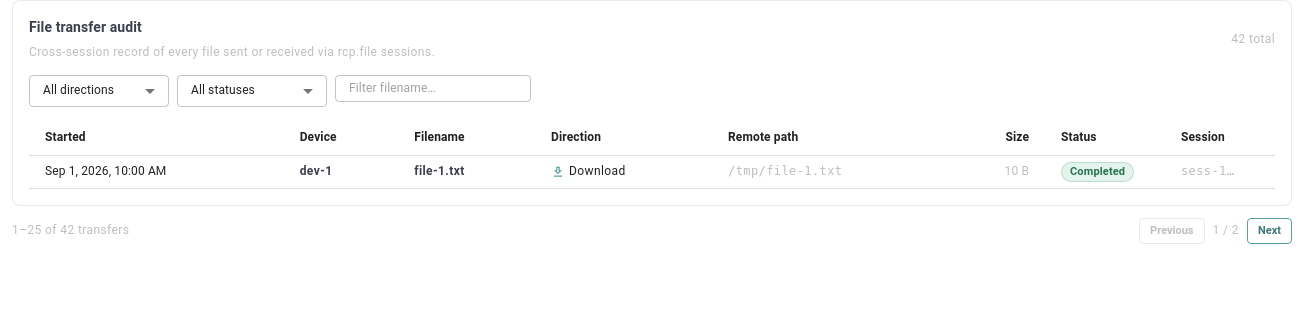
Test: ⚠️ los filtros de la auditoría viajan al servidor › el contador dice cuántas coinciden en TODO el histórico
Expected: the text "42 total" is shown, left=1231, top=30, right=1275, bottom=50
Click the dropdown "All statuses". click: (223, 90)
box: left=191, top=83, right=255, bottom=97
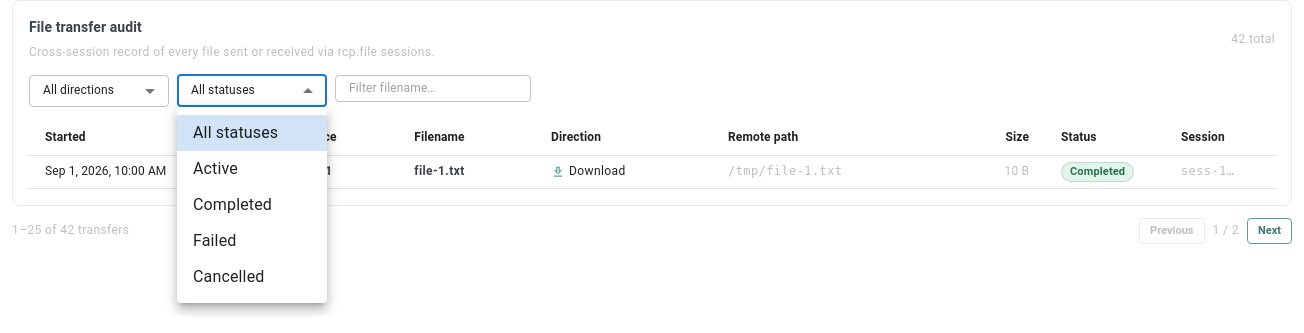
Click the option "Failed". click: (215, 240)
box: left=193, top=231, right=236, bottom=250
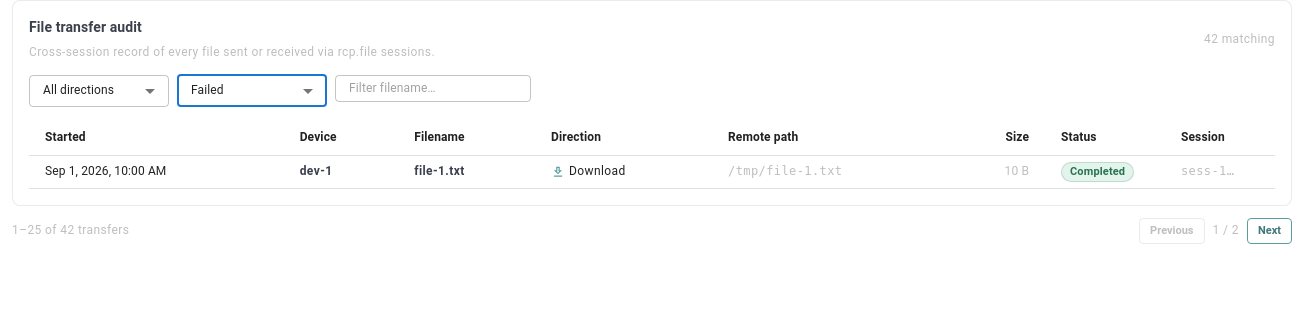
Expected: the text "42 matching" is shown, left=1204, top=30, right=1275, bottom=50
